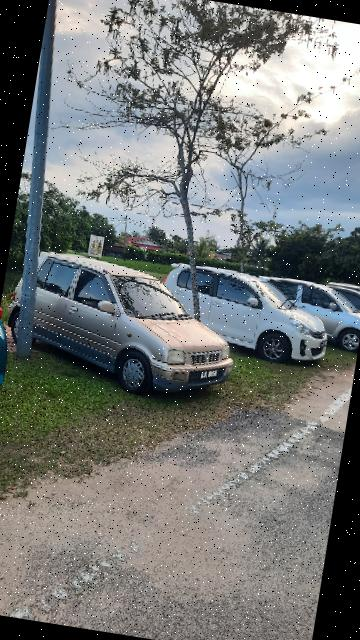License_Plate: (186, 362, 228, 386)
car: (5, 245, 252, 408)
